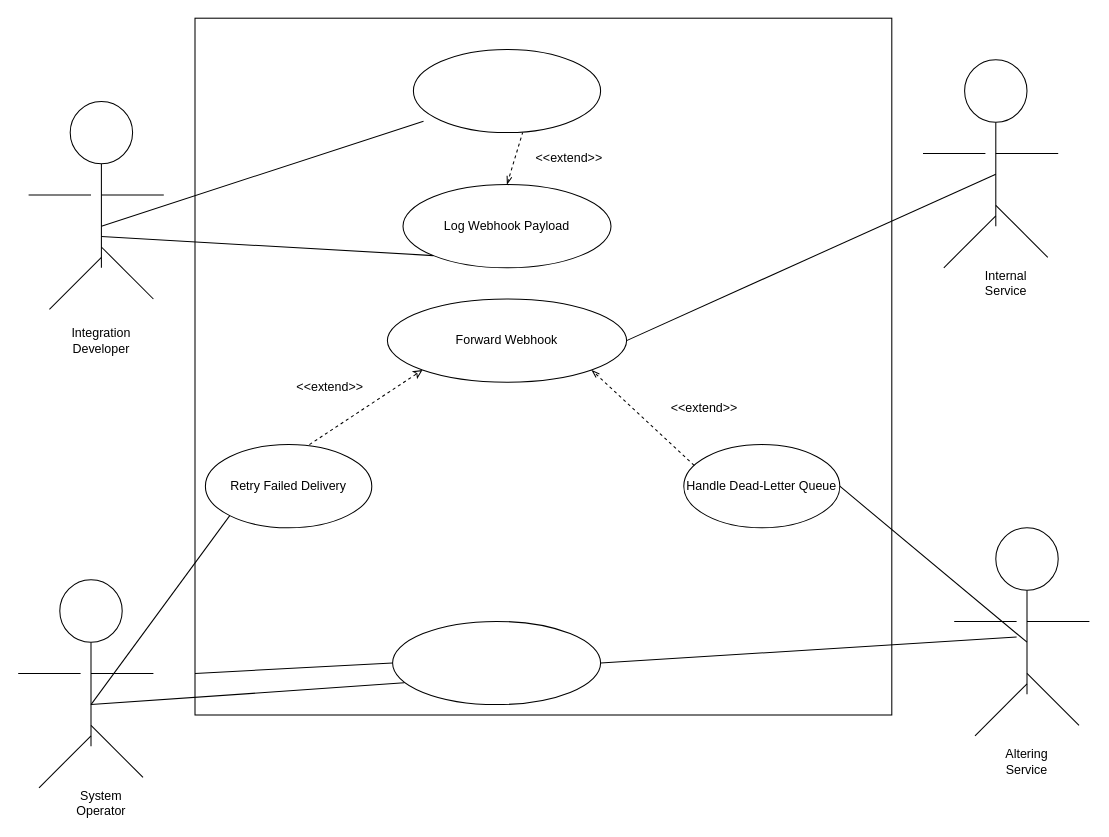
The diagram is 1109 pixels wide and 837 high, and some of its shapes have lost their labels. Each missing label, with the centre of its shape:
"Monitor and View Deliveries" belongs at [496,662].
"Receive Webhook" belongs at [506,90].
